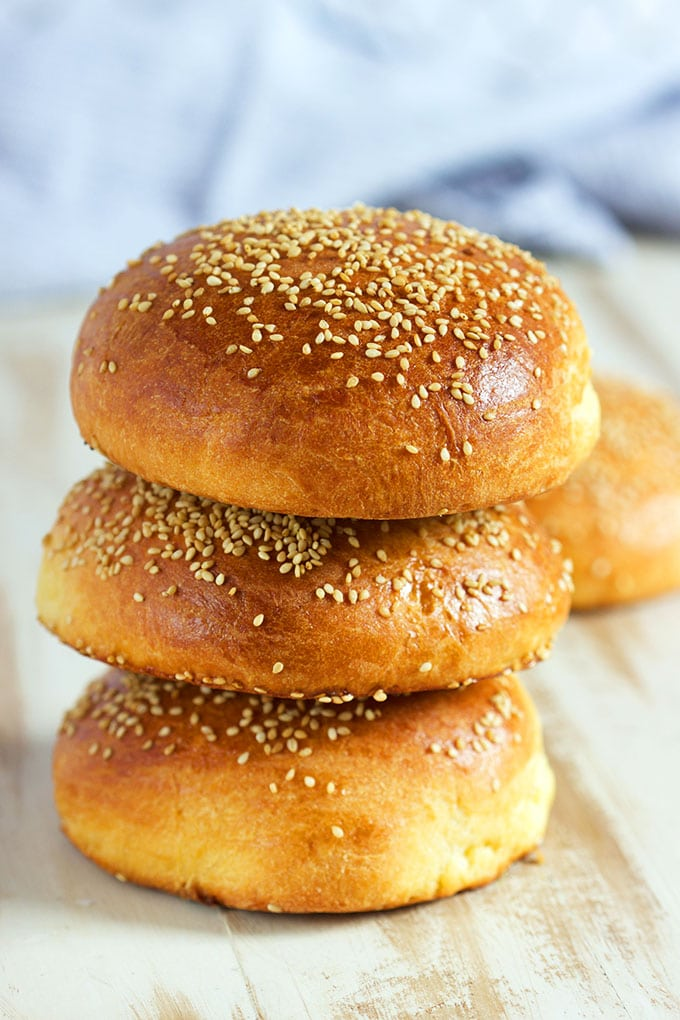hamburger_buns: (87, 201, 604, 519), (48, 636, 589, 929), (33, 462, 633, 693)
